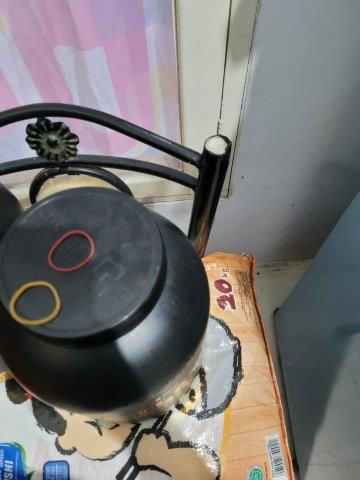karet: (8, 280, 63, 328), (48, 230, 95, 271)
